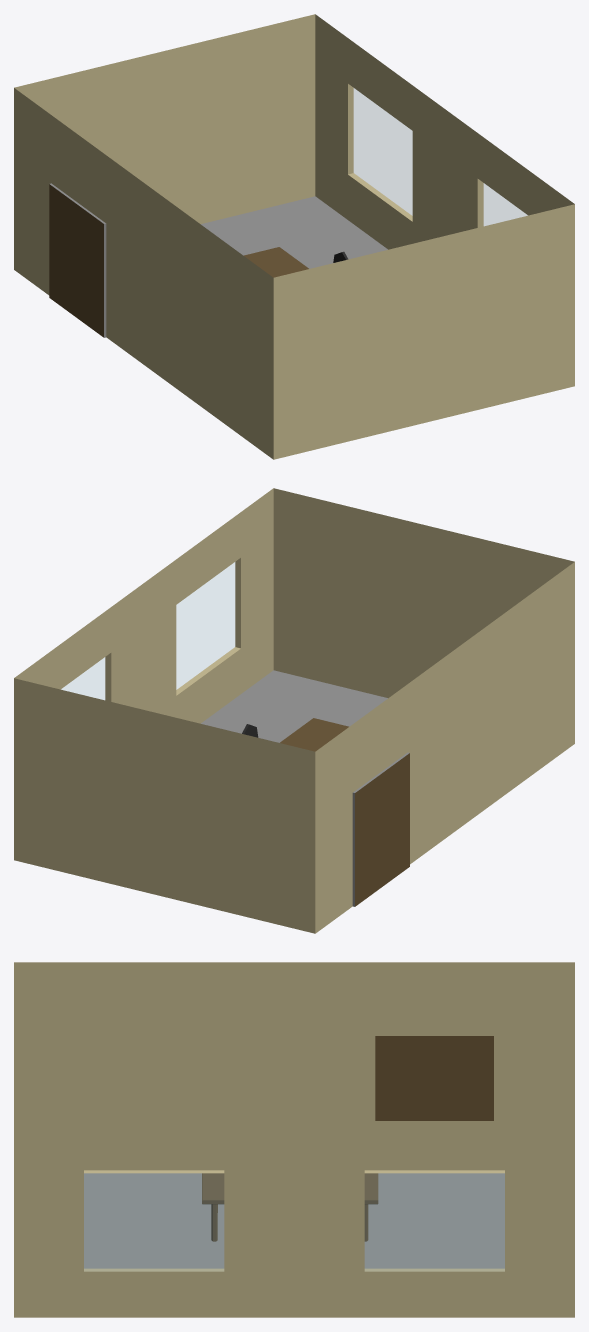
File: Office3.fbx
The picture shows the model from 3 angles, top to bottom: view 1: azimuth 30°, elevation 25°; view 2: azimuth 150°, elevation 25°; view 3: azimuth 270°, elevation 25°; orthographic projection. The views are drawn at different scales.
Visible parts, largest first — view 1: room, floor, door, table+chair; view 2: room, floor, door, table+chair; view 3: room, floor, door, table+chair.
Boxes of the visible parts, <box> form: room: <box>14,14,574,459</box>; floor: <box>201,196,387,268</box>; door: <box>49,184,103,337</box>; table+chair: <box>244,247,348,277</box>; room: <box>14,488,574,933</box>; floor: <box>201,670,387,742</box>; door: <box>355,753,409,906</box>; table+chair: <box>242,718,348,751</box>; room: <box>14,962,574,1317</box>; floor: <box>84,1173,504,1268</box>; door: <box>375,1036,493,1120</box>; table+chair: <box>202,1173,378,1241</box>.
Bounding box in the file's own units: 2097 × 1180 × 3046.
